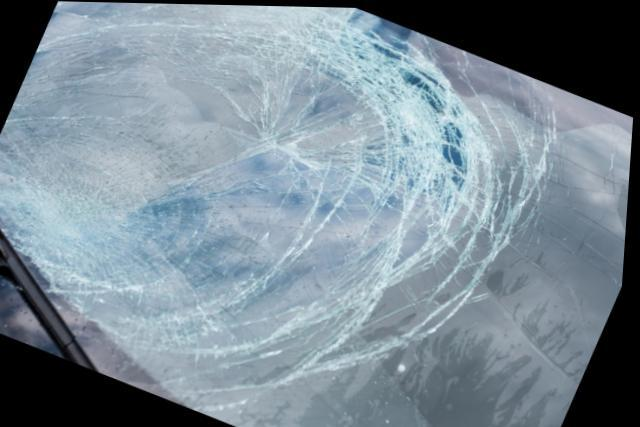glass shatter: (0, 1, 635, 427)
